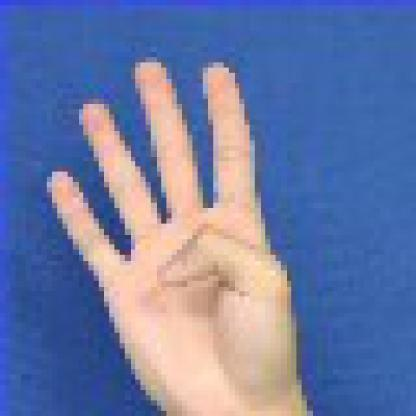four: (42, 51, 328, 403)
